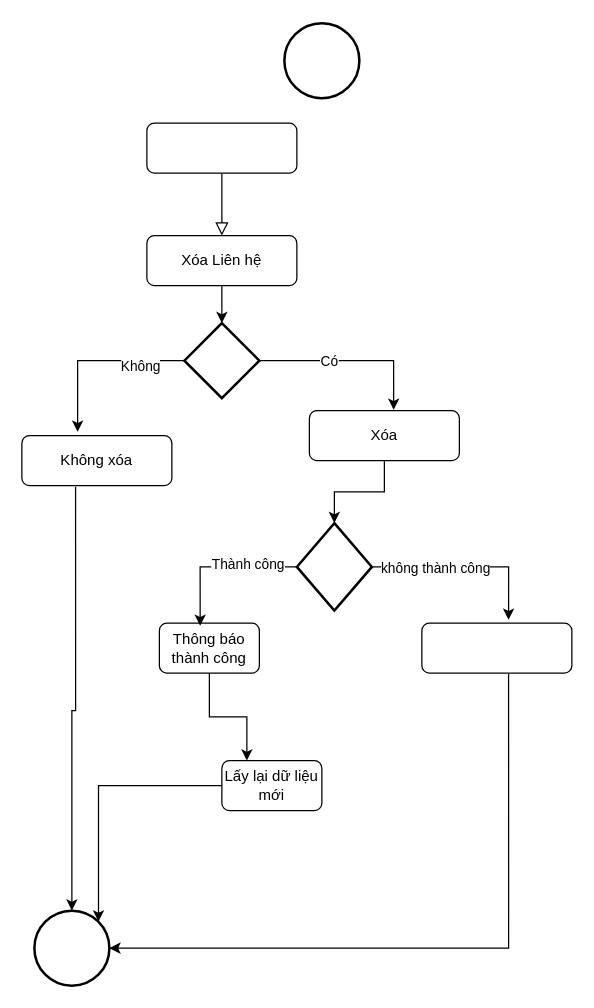
Image size: 594x1008. Some labels were removed from this diagram. Each missing label, with the box of its shape:
Danh sách liên hệ: (146, 122, 297, 173)
Thông báo lỗi: (421, 622, 572, 673)
Xác nhận xóa: (182, 321, 260, 399)
